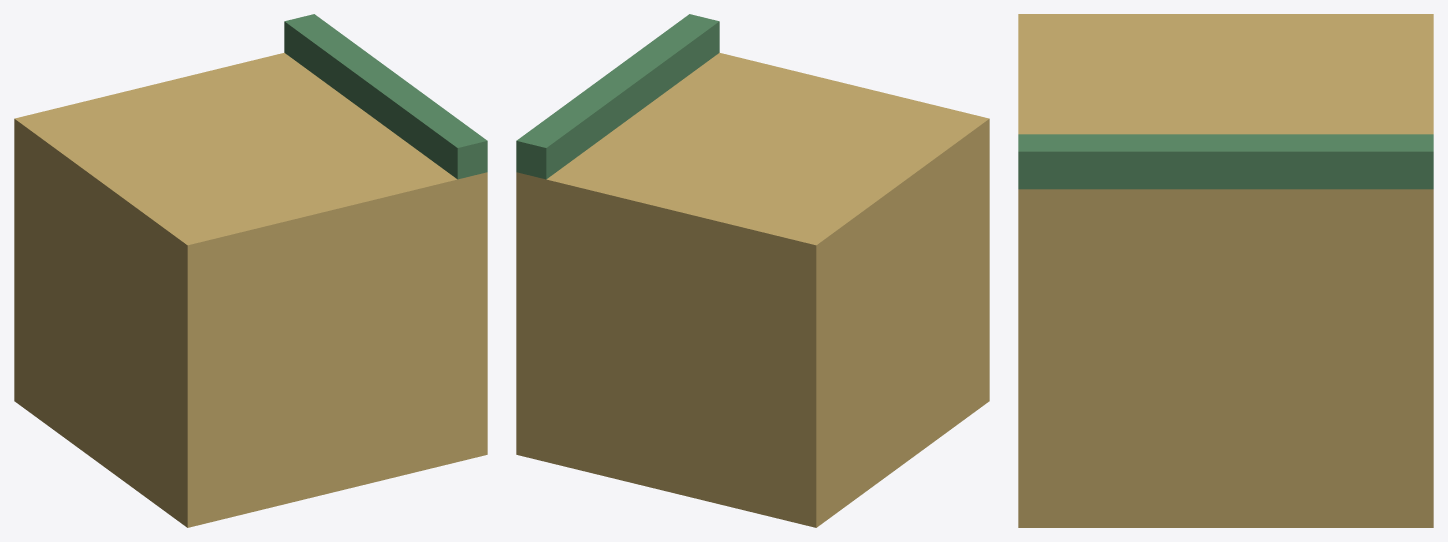
The model's file is path-edge.glb.
3 views of the same model, side by side, from view 1: azimuth 30°, elevation 25°; view 2: azimuth 150°, elevation 25°; view 3: azimuth 270°, elevation 25° (orthographic). The views are drawn at different scales.
Visible parts, largest first — view 1: Path - Edge; view 2: Path - Edge; view 3: Path - Edge.
Boxes of the visible parts, x1=… form: Path - Edge: x1=14, y1=14, x2=487, y2=527; Path - Edge: x1=516, y1=14, x2=989, y2=527; Path - Edge: x1=1018, y1=14, x2=1433, y2=527.
Bounding box in the file's own units: 1 × 1 × 1.
